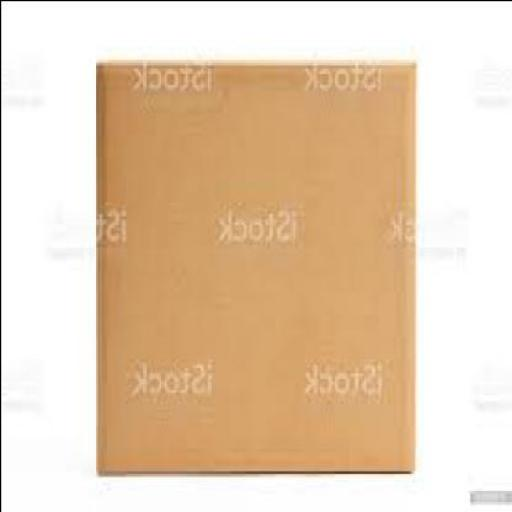cardboard: (97, 56, 417, 472)
